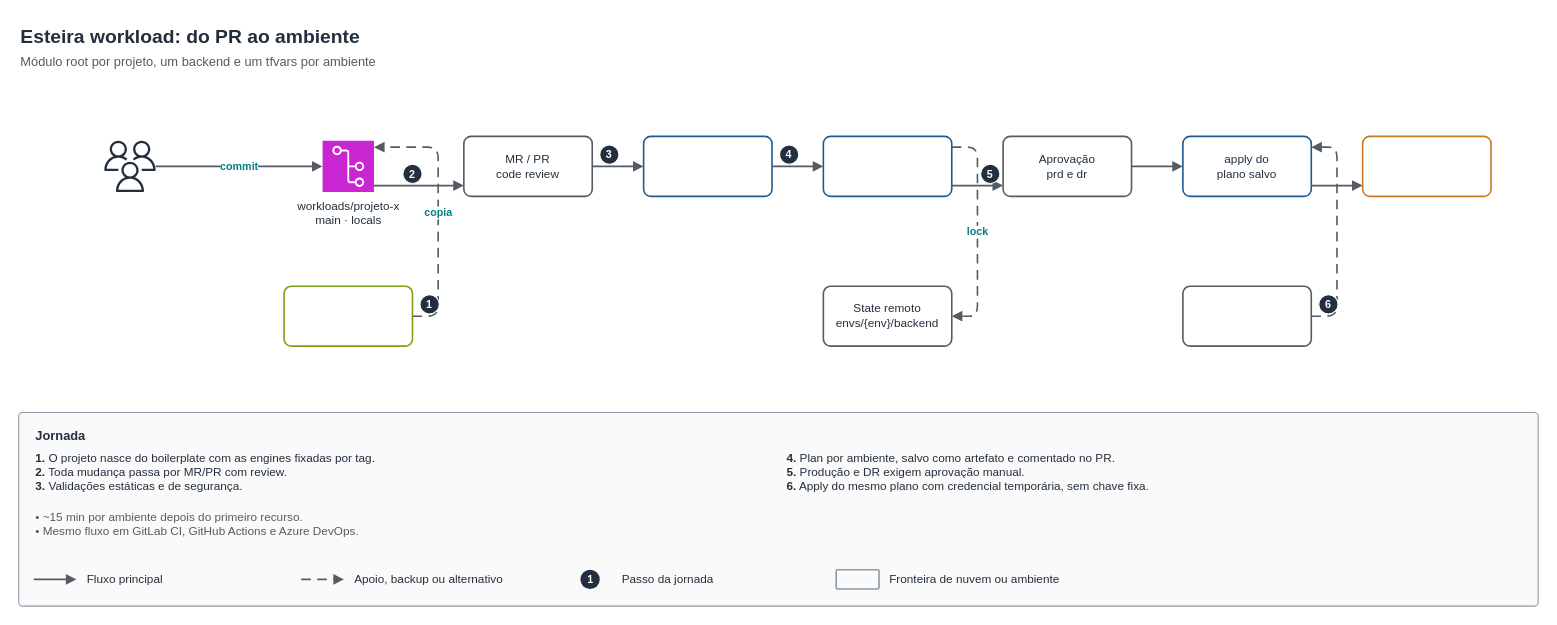
Some shapes in this 1557 by 625 pixel diagram are drawn without their labels. Here are the shapes that lost their labels. From the top down, the box of each, then its label:
(104, 140, 155, 192): Time de produto
(642, 135, 772, 197): init · validate tflint · checkov
(822, 135, 952, 197): plan por ambiente artefato + comentário
(1361, 135, 1491, 197): dev · hml prd · dr
(283, 285, 413, 346): Boilerplate ?ref=tag
(1182, 285, 1312, 346): Credencial temporária OIDC / identidade gerenciada
